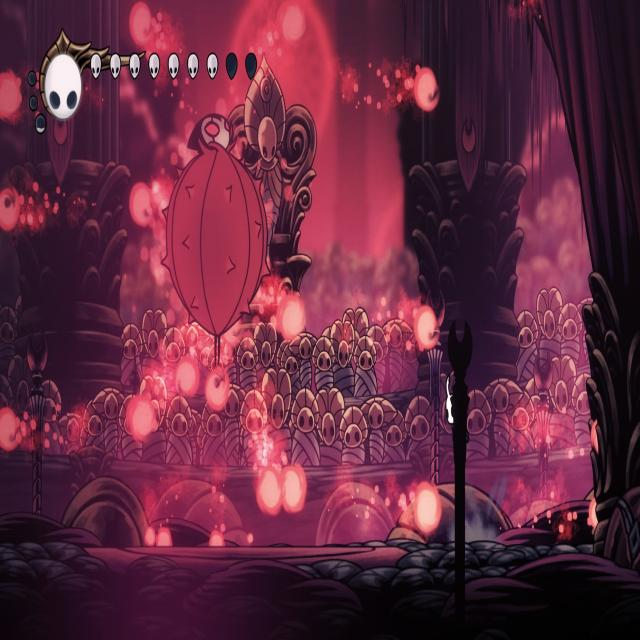Pufferfish: (158, 110, 274, 370)
Tiny Fireballs: (413, 484, 441, 536), (126, 395, 156, 442), (277, 294, 305, 343), (280, 464, 306, 513), (257, 468, 282, 516), (130, 2, 155, 49), (129, 179, 154, 225), (279, 1, 305, 44), (415, 68, 439, 114), (0, 73, 21, 125), (415, 307, 439, 352), (205, 366, 229, 411), (176, 358, 200, 399), (0, 187, 20, 232), (0, 408, 19, 453)
